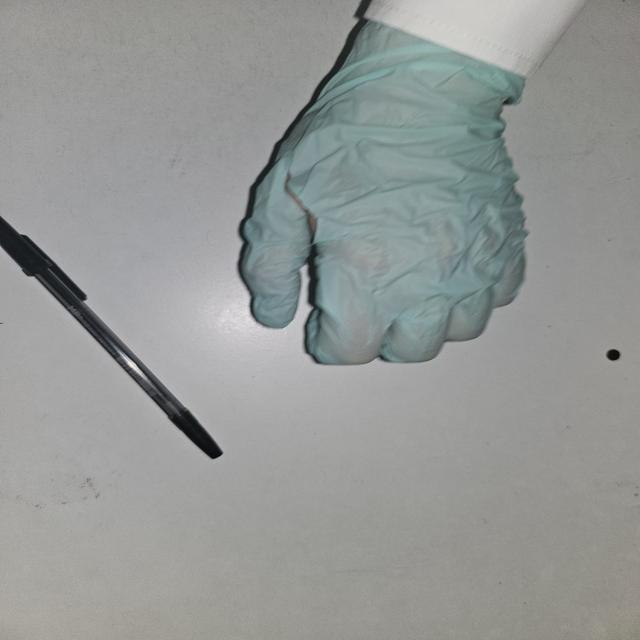gloves_damaged: (232, 19, 533, 370)
